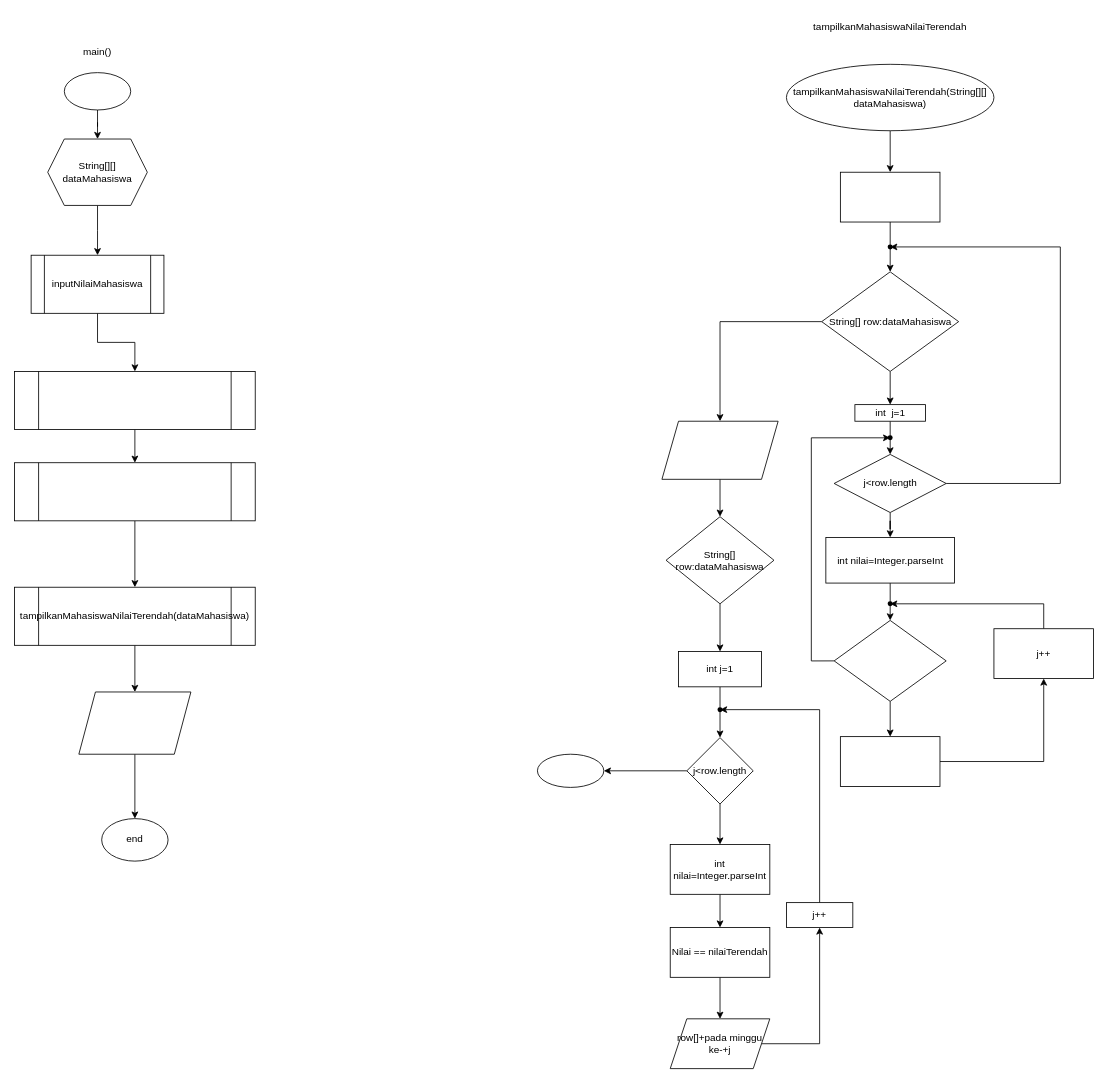
Some shapes in this 1108 by 1083 pixel diagram are drawn without their labels. Each missing label, with the box of its shape:
cariHariNilaiTertinggi(dataMahasiswa): (14, 462, 255, 521)
int nilaiTerendah: (840, 171, 940, 222)
mahasiswa yang memiliki nilai terendah: (661, 420, 778, 479)
nilai<nilaiTerendah: (833, 620, 946, 701)
nilaiMahasiswa, hariNilaiTertinggi, nilaiTerendah: (78, 691, 191, 754)
nilaiTerendah=nilai: (840, 736, 940, 786)
return: (537, 753, 604, 787)
start: (63, 72, 131, 110)
tampilkanNilaiMahasiswa(dataMahasiswa: (14, 371, 255, 430)
